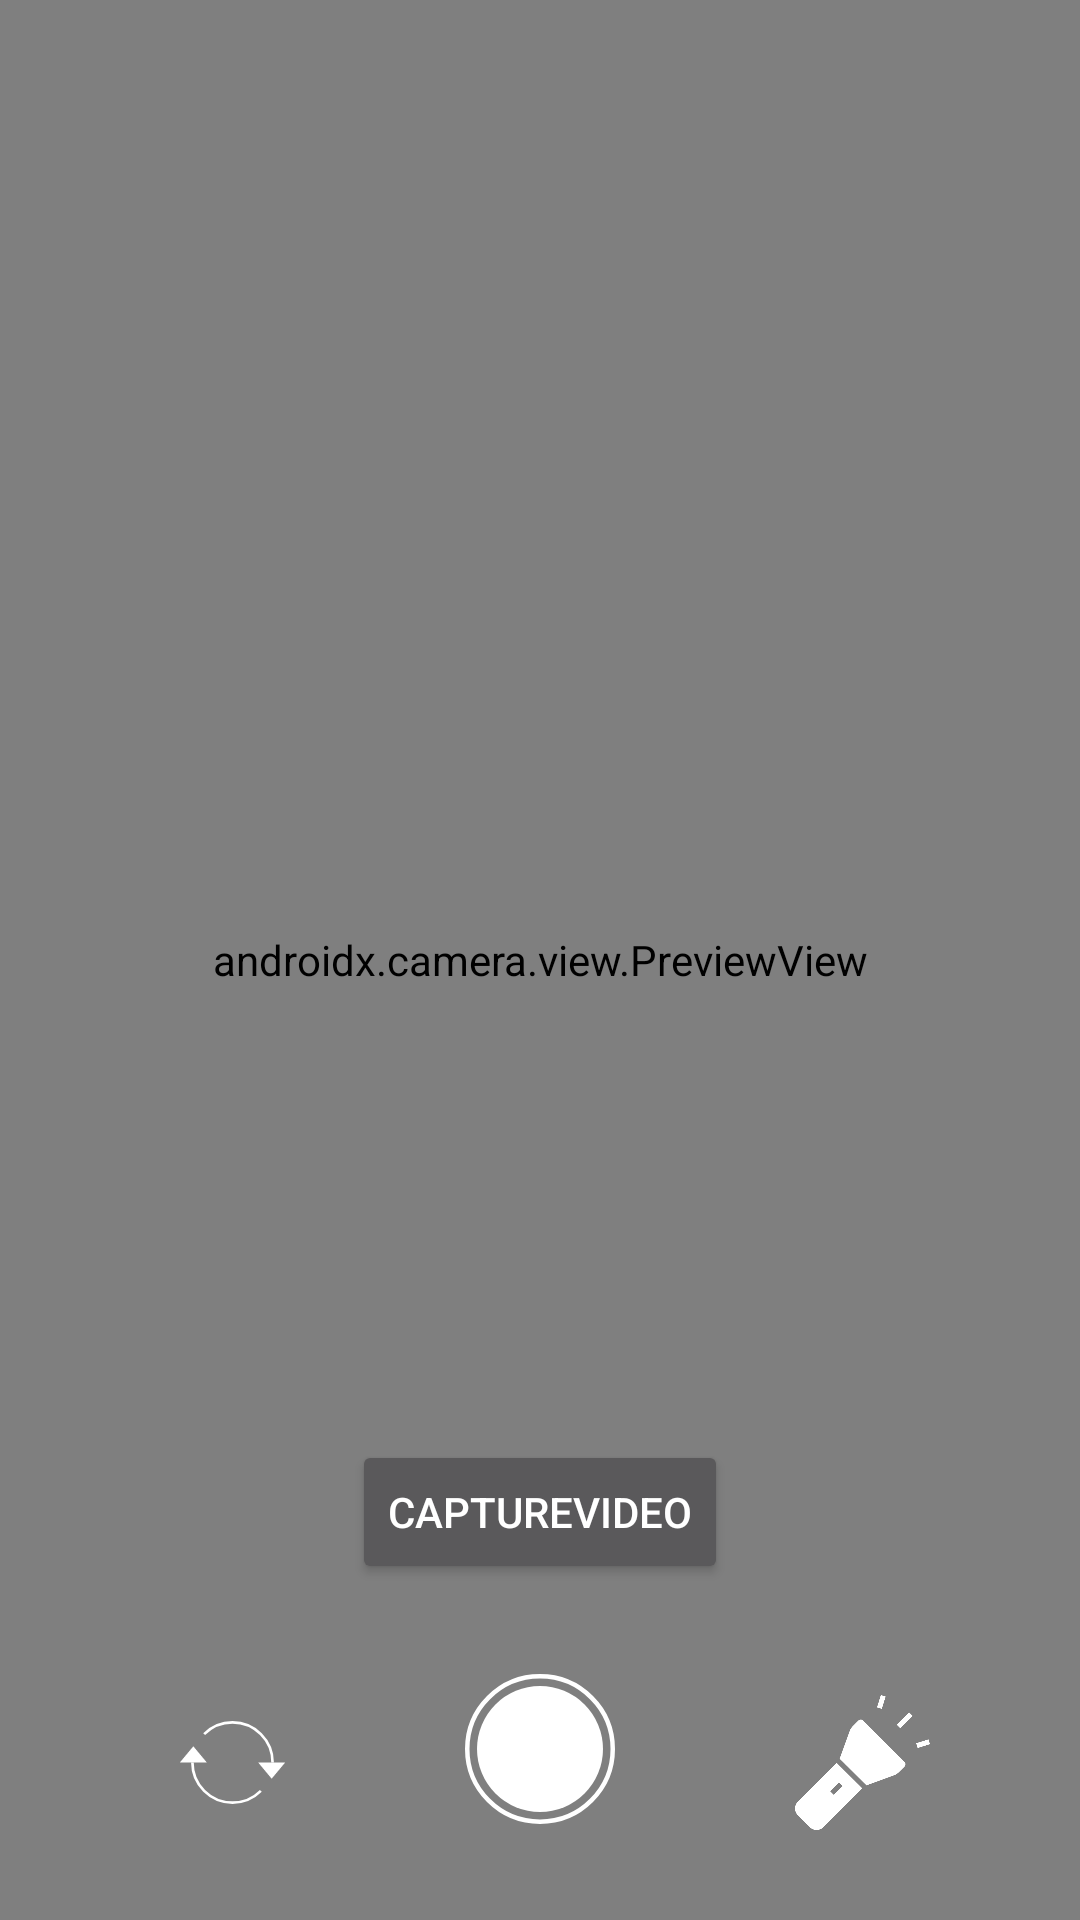

Icon bounding boxes for this 1080px x 1920px phone screenshot, format (x1, y1, x2, y2):
change: (180, 1721, 285, 1804)
shutter: (465, 1674, 615, 1824)
torch: (795, 1695, 930, 1830)
